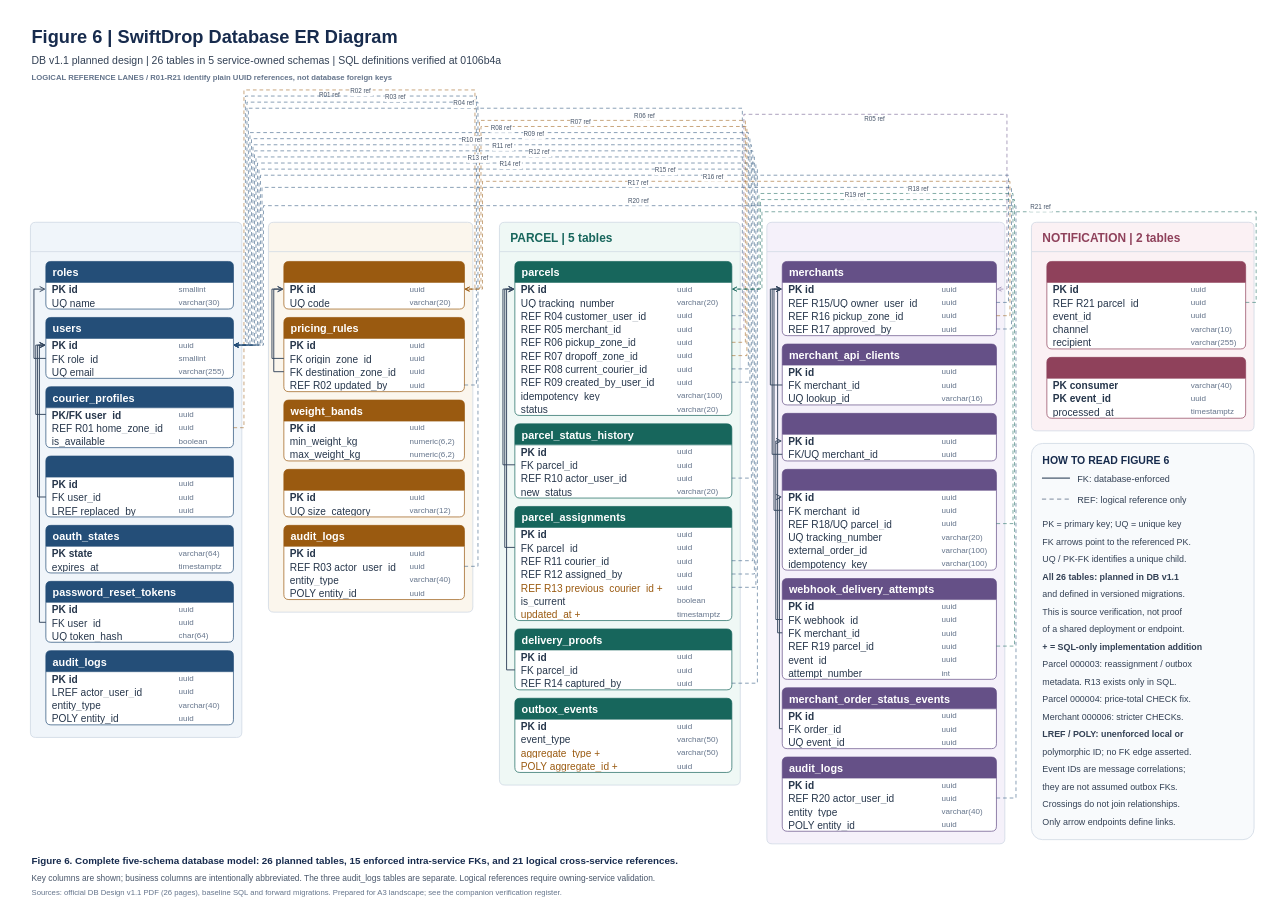
Some shapes in this 1284 by 915 pixel diagram are drawn without their labels. The box of each missing label's shape, as (x1, y1, x2, y2) in pixels:
IDENTITY | 7 tables: (30, 222, 242, 737)
MERCHANT | 7 tables: (766, 222, 1005, 844)
merchant_orders: (782, 469, 996, 570)
merchant_webhooks: (782, 413, 996, 461)
notification_logs: (1046, 261, 1246, 349)
PRICING | 5 tables: (268, 222, 473, 612)
processed_events: (1046, 357, 1246, 418)
refresh_tokens: (45, 455, 233, 517)
size_surcharges: (283, 469, 464, 517)
zones: (283, 261, 464, 309)
